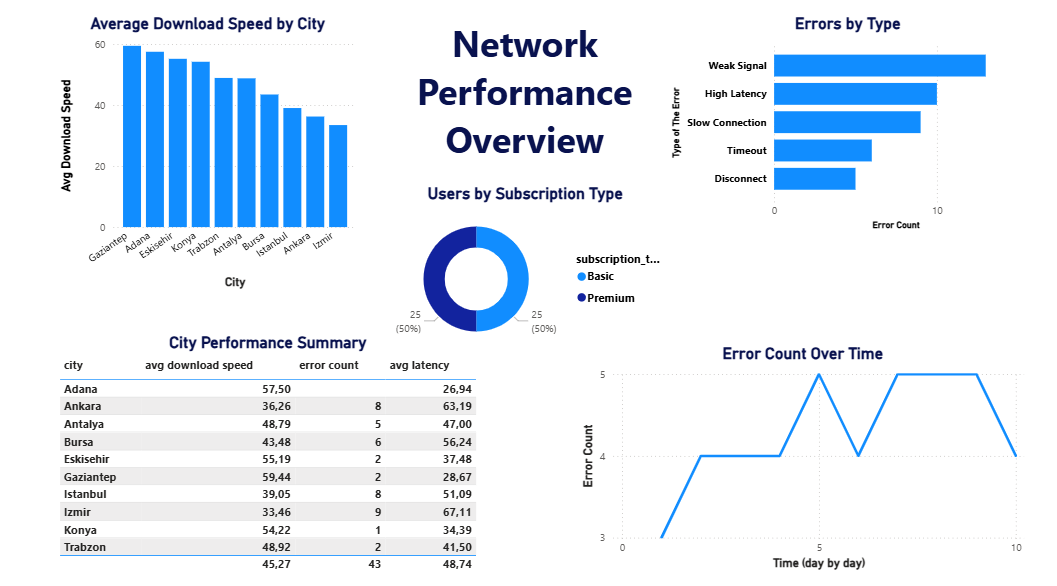

The page's visual inventory and layout, read from the dashboard file:
{"tool":"powerbi","page":{"name":"Network Performance Overview","canvas":[1280,720],"ordinal":0},"visuals":[{"type":"clusteredColumnChart","title":"Average Download Speed by City","fields":{"Category":["Locations.city"],"Y":["Avg(Network_Logs.download_speed)"]},"box":[76.1,26.9,365.7,332.8],"z":0},{"type":"textbox","box":[441.8,26.9,391,237.3],"z":1000},{"type":"donutChart","title":"Users by Subscription Type","fields":{"Category":["Users.subscription_type"],"Y":["CountNonNull(Users.user_id)"]},"box":[455.2,229.9,365.7,204.5],"z":2000},{"type":"clusteredBarChart","title":"Errors by Type","fields":{"Category":["Errors.error_type"],"Y":["CountNonNull(Errors.error_id)"]},"box":[807.5,26.9,431.3,262.7],"z":3000},{"type":"tableEx","title":"City Performance Summary","fields":{"Values":["Locations.city","Avg(Network_Logs.download_speed)","CountNonNull(Errors.error_id)","Avg(Network_Logs.latency)"]},"box":[76.1,407.5,509,301.5],"z":4000},{"type":"lineChart","title":"Error Count Over Time","fields":{"Category":["Errors.error_time.Varyasyon.Tarih Hiyerarşisi.Gün"],"Y":["CountNonNull(Errors.error_id)"]},"box":[700,420.9,538.8,274.6],"z":5000}]}

Visuals, with their boxes in screenshot pixels (x1, y1, x2, y2), scaled from the page's 1280x720 canvas onto the 1057x586 screenshot:
"Average Download Speed by City" clusteredColumnChart: [63,22,365,293]
textbox: [365,22,688,215]
"Users by Subscription Type" donutChart: [376,187,678,354]
"Errors by Type" clusteredBarChart: [667,22,1023,236]
"City Performance Summary" tableEx: [63,332,483,577]
"Error Count Over Time" lineChart: [578,343,1023,566]
